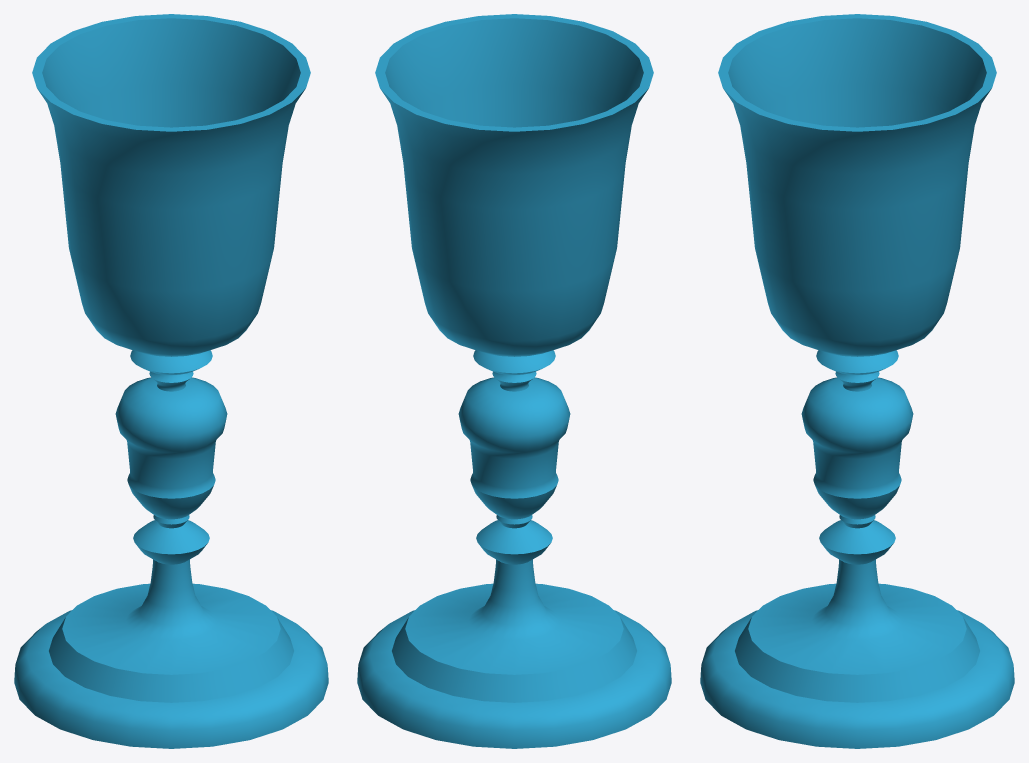
Rendered from cup_low.fbx.
The picture shows the model from 3 angles, left to right: view 1: azimuth 30°, elevation 25°; view 2: azimuth 150°, elevation 25°; view 3: azimuth 270°, elevation 25°; orthographic projection.
Parts seen in each view (by area): view 1: cup; view 2: cup; view 3: cup.
Boxes of the visible parts, box(x1,y1,x2,y2) form: cup: box(14, 14, 328, 748); cup: box(357, 14, 671, 748); cup: box(700, 14, 1014, 748).
Size of the model in its own units: 11.28 by 24.1 by 11.28.
